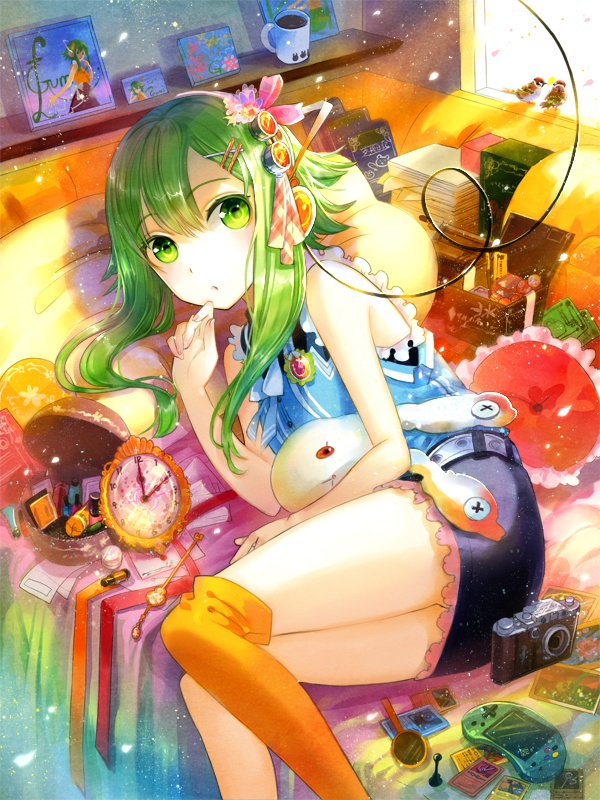纸片人正脸: (102, 87, 316, 316), (98, 442, 184, 545)
